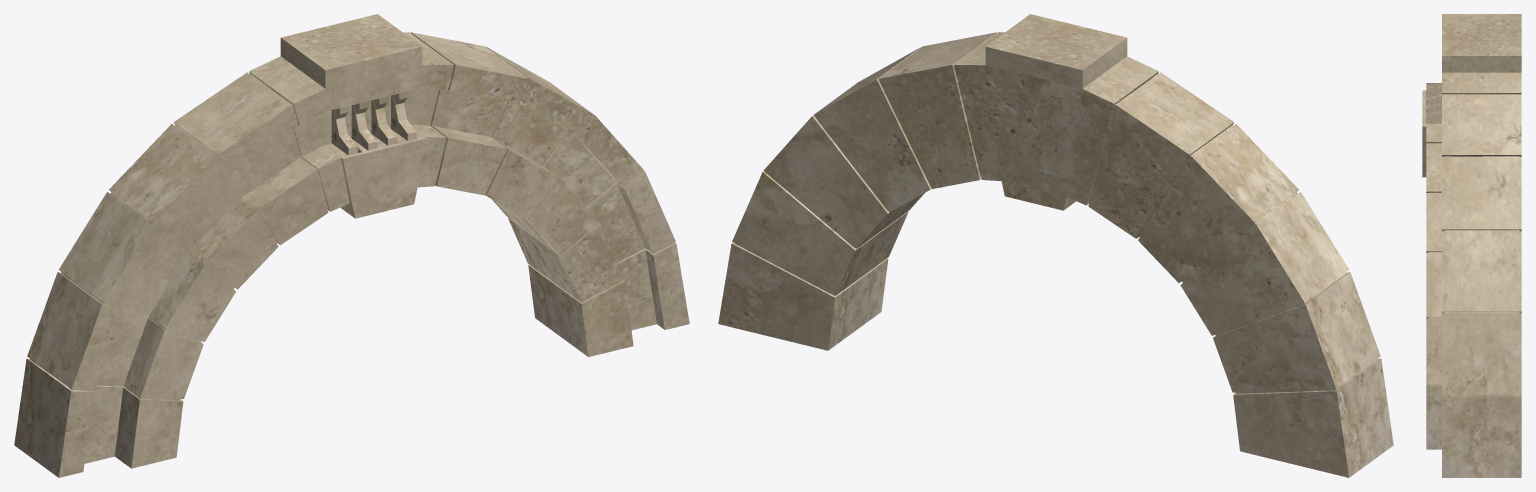
File: 1sided_bent.FBX
3 renders of one model, left to right at view 1: azimuth 30°, elevation 25°; view 2: azimuth 150°, elevation 25°; view 3: azimuth 270°, elevation 25°, orthographic. The views are drawn at different scales.
Visible parts, largest first — view 1: Torus001; view 2: Torus001; view 3: Torus001.
Part boxes in pixels (<box>): Torus001: <box>14,14,689,477</box>; Torus001: <box>718,14,1393,477</box>; Torus001: <box>1422,14,1521,477</box>.
Bounding box in the file's own units: 427 × 222 × 65.16.
